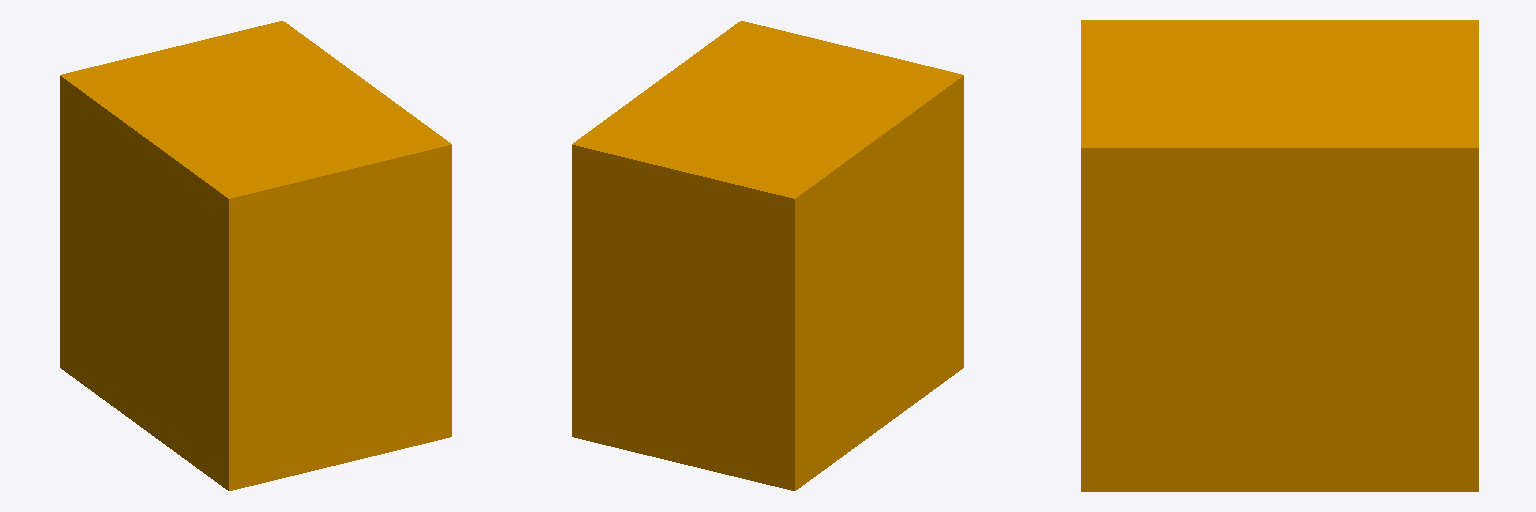
URDF robot description (object):
<robot name="object">
  <link name="object">
    <visual>
      <origin xyz="0 0 0" />
      <geometry>
        <box size="0.064 0.08400000000000002 0.08" />
      </geometry>
    </visual>

    <collision>
      <origin xyz="0 0 0" />
      <geometry>
        <box size="0.064 0.08400000000000002 0.08" />
      </geometry>
    </collision>

    <inertial>
      <mass value="0.05" />
      <inertia ixx="0.0001" ixy="0.0" ixz="0.0" iyy="0.0001" iyz="0.0" izz="0.0001" />
    </inertial>
  </link>
</robot>

--- What the picture shows (computed from the rendered views, not written in the file) ---
The picture shows the robot from 3 angles, left to right: view 1: azimuth 30°, elevation 25°; view 2: azimuth 150°, elevation 25°; view 3: azimuth 270°, elevation 25°; orthographic projection.
Model object with 1 links and 0 joints (none), rooted at object, posed every joint at zero.
Visible links, largest first — view 1: object; view 2: object; view 3: object.
Link boxes in pixels (<box>): object: <box>60,21,451,490</box>; object: <box>572,21,963,490</box>; object: <box>1081,20,1478,491</box>.
Bounding box of the posed robot: 0.064 × 0.084 × 0.08 m (x, y, z).
Geometry: primitives only (box / cylinder / sphere), no mesh files.